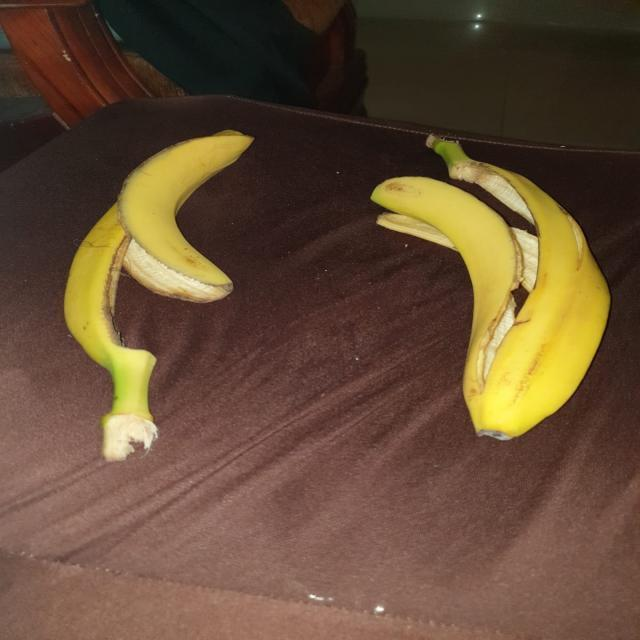banana-peel: (370, 131, 611, 441), (62, 127, 255, 462)
